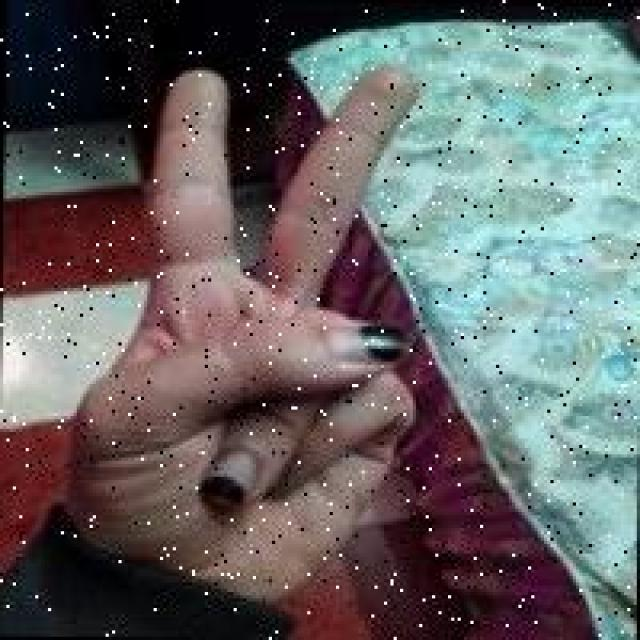V: (61, 54, 448, 589)
